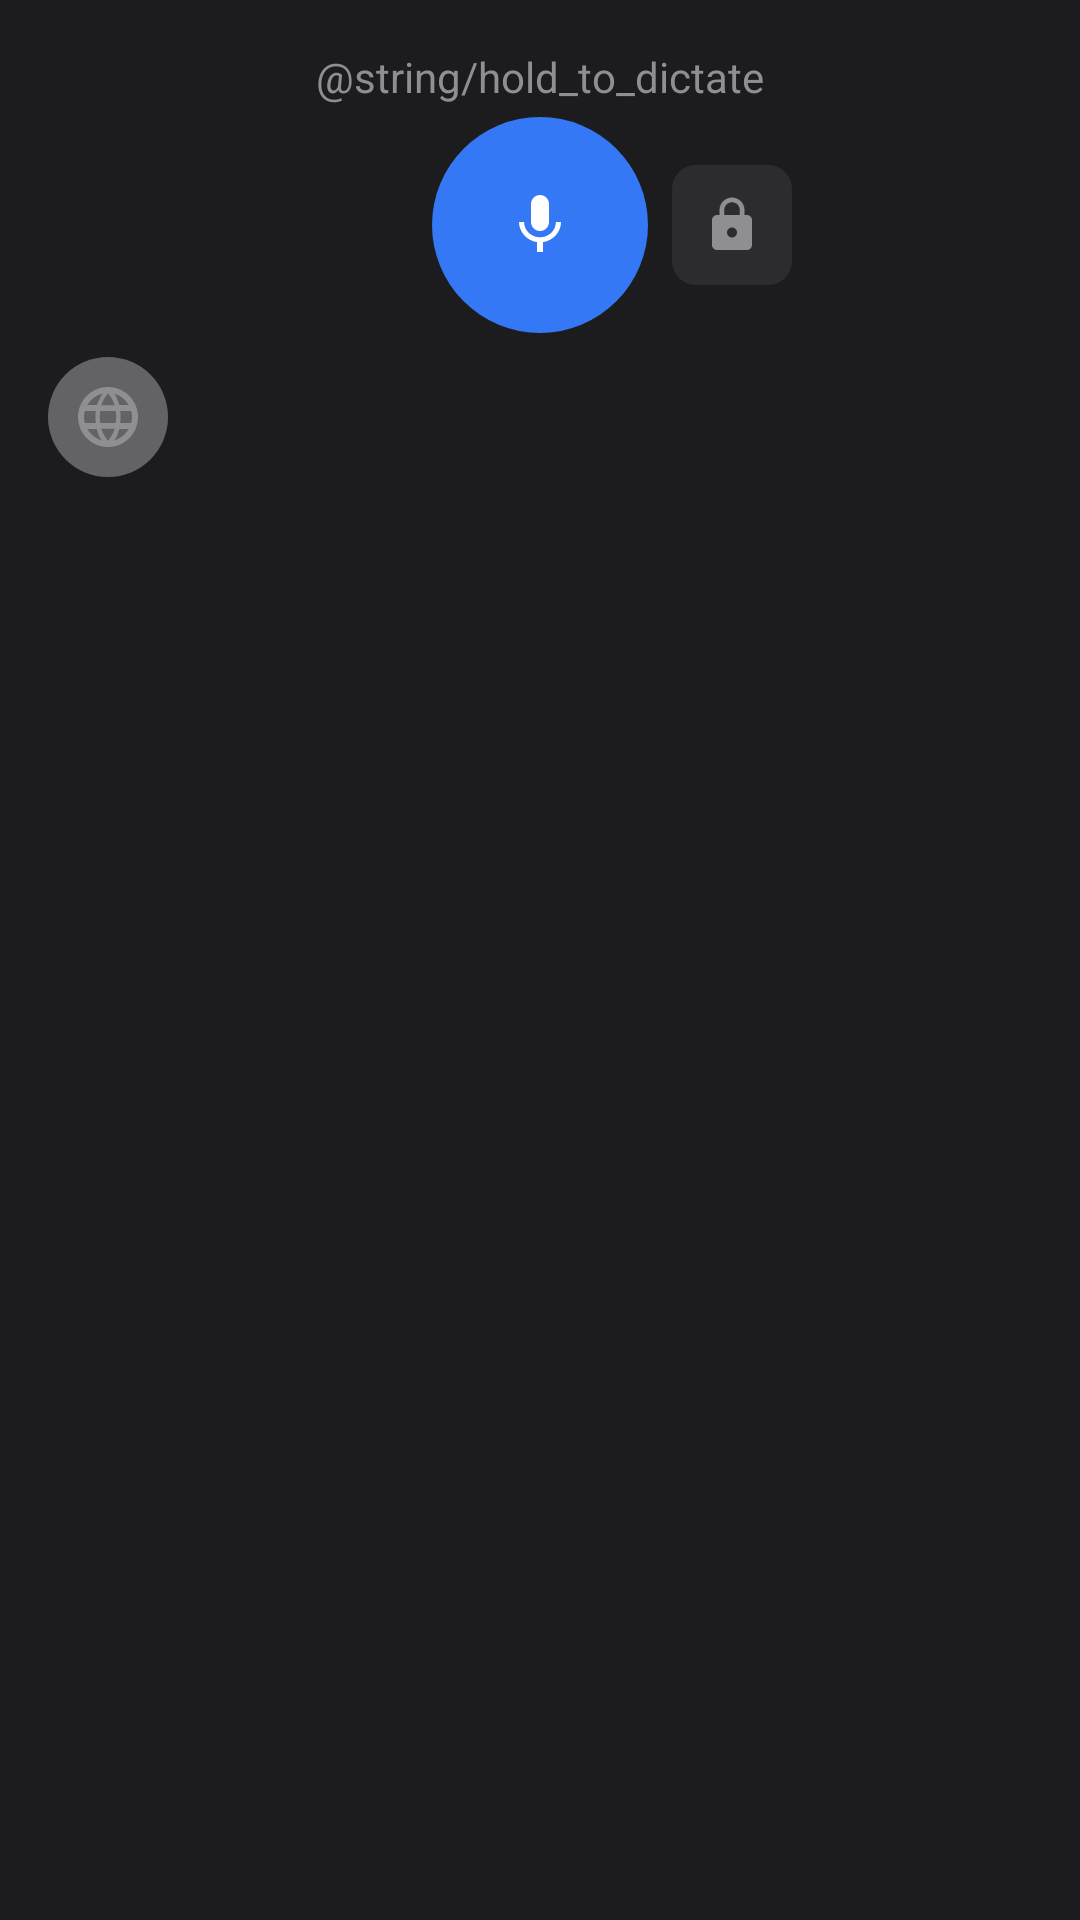

Icons on this 1080x1920 Android screen, each with the point to tap as (x,y):
Switch keyboard: (108,417)
